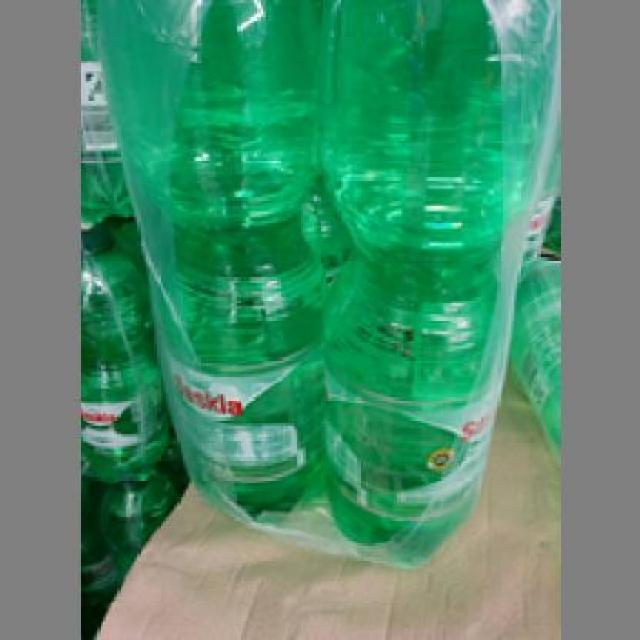Water: (314, 0, 554, 566), (91, 0, 320, 523)
